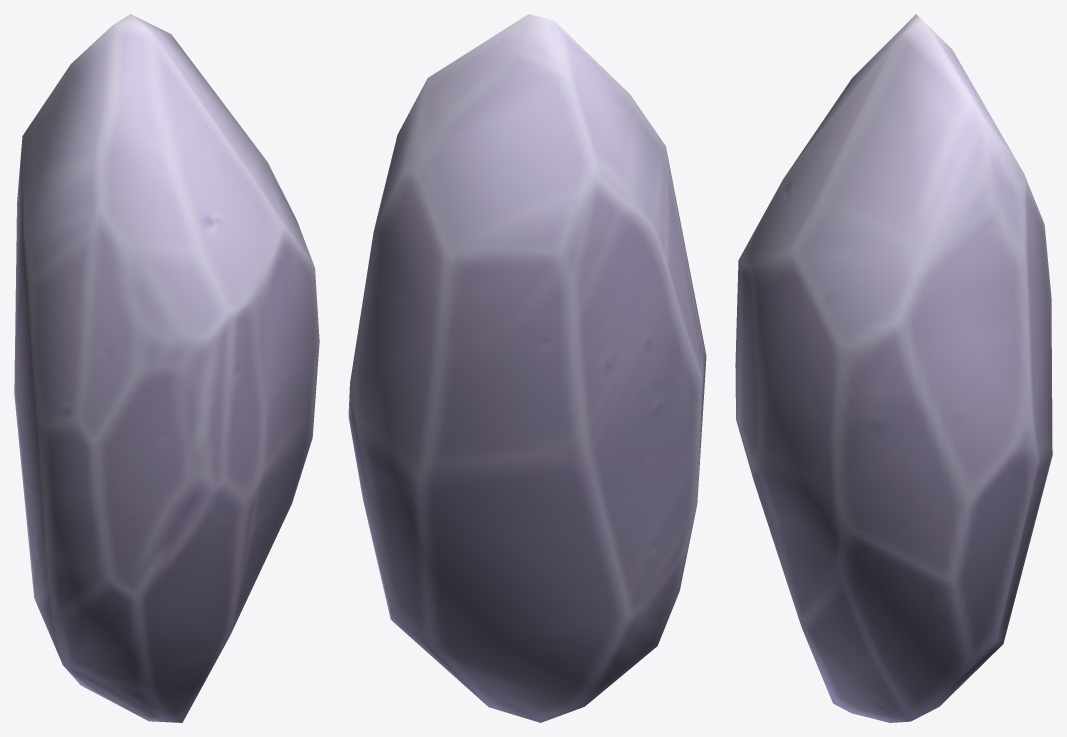
File: SM_Gem_Diamond_002.fbx
The picture shows the model from 3 angles, left to right: view 1: azimuth 30°, elevation 25°; view 2: azimuth 150°, elevation 25°; view 3: azimuth 270°, elevation 25°; orthographic projection. The views are drawn at different scales.
Visible parts, largest first — view 1: SM_Gem_Diamond_002; view 2: SM_Gem_Diamond_002; view 3: SM_Gem_Diamond_002.
Part boxes in pixels (x1,y1,x2,y2): SM_Gem_Diamond_002: (14, 14, 319, 722); SM_Gem_Diamond_002: (348, 14, 706, 722); SM_Gem_Diamond_002: (735, 14, 1052, 722).
Bounding box in the file's own units: 13.04 × 30.15 × 12.62.
